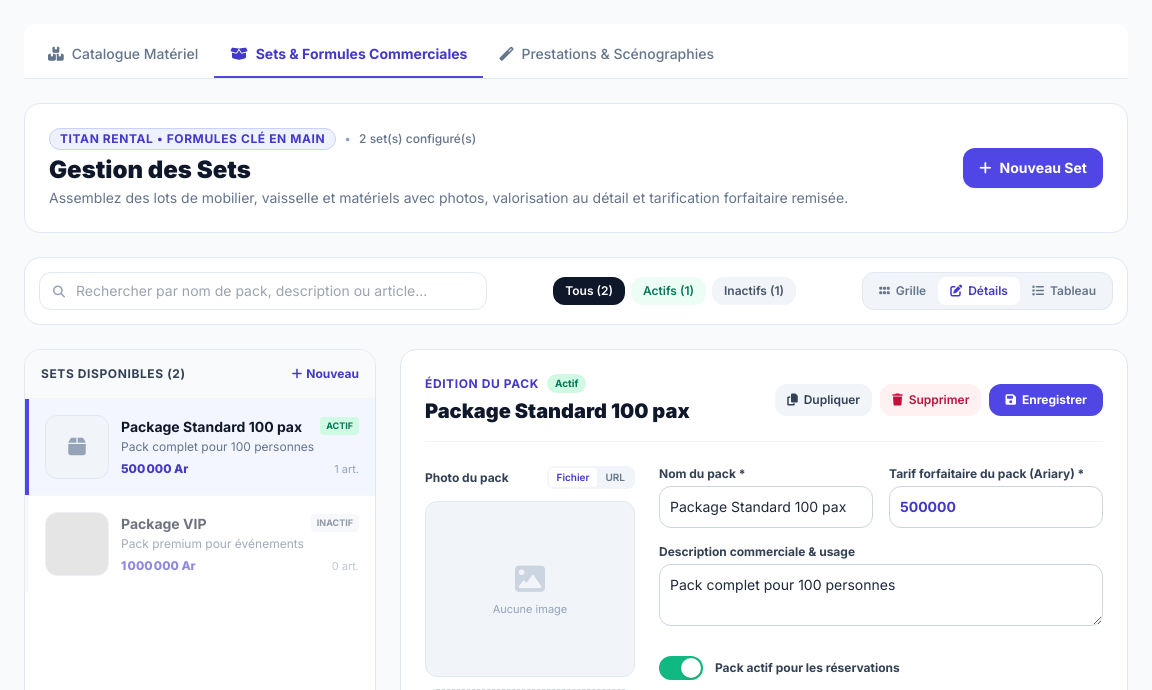
PackageBuilderPage › 9. Réinitialise le brouillon lors du changement de pack
Replace the text in the text box showing "Pack complet pour 100 personnes" with "Brouillon du premier pack" at (881,595), box [659,564,1103,626]
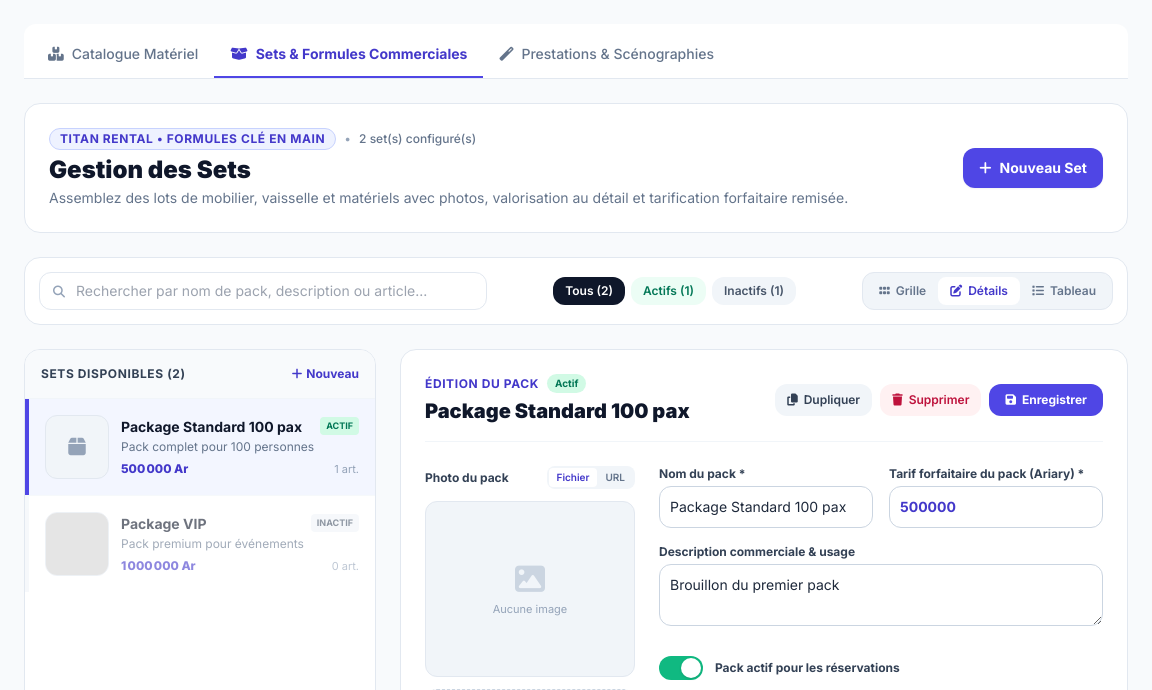
Click the heading "Package VIP" at (164,524), box [121,514,206,534]
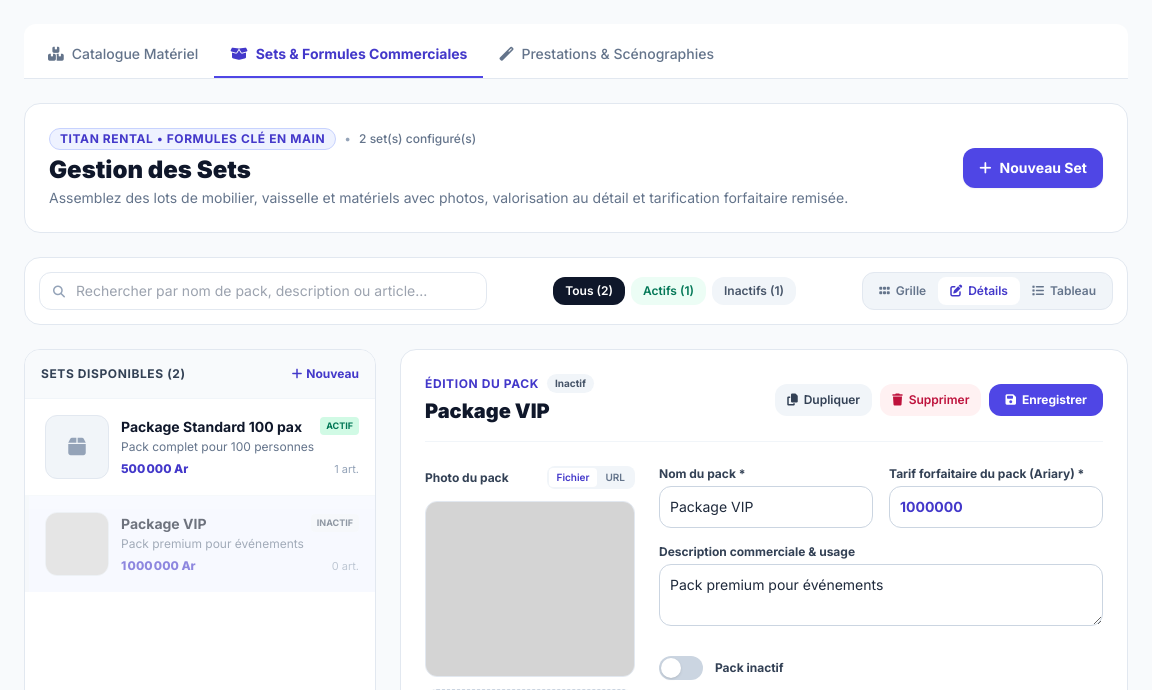
Check: the field showing "Brouillon du premier pack" is not shown
Check: the text box showing "Pack premium pour événements" is shown, box [659,564,1103,626]
